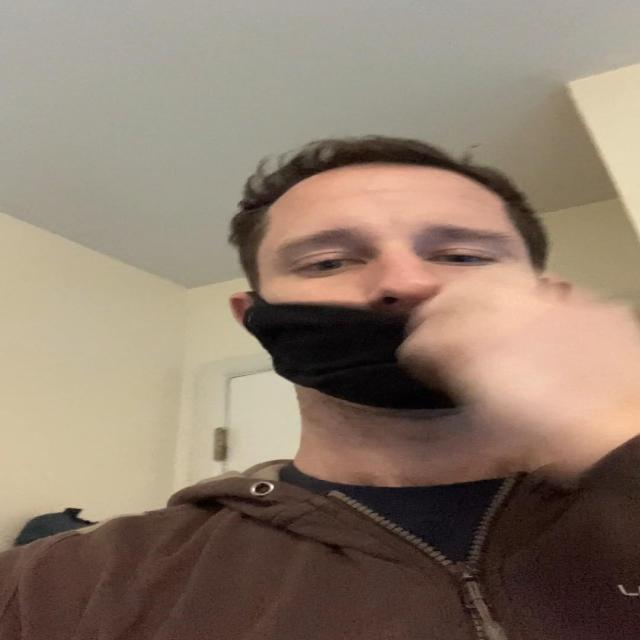no-helmet: (242, 161, 565, 414)
